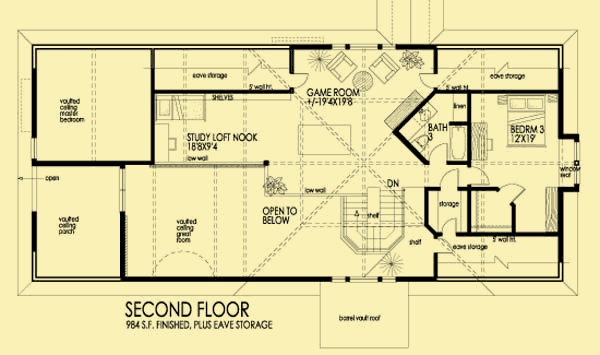bed: (507, 94, 547, 148), (155, 92, 208, 122)
door: (498, 180, 527, 202), (466, 165, 493, 185), (428, 142, 451, 164), (438, 167, 460, 189), (290, 72, 311, 91), (417, 70, 438, 88), (440, 216, 459, 235)
small_sofa: (368, 52, 401, 85), (325, 51, 358, 83)
stairs: (340, 191, 405, 256)
tub: (448, 126, 469, 160)
window: (331, 42, 398, 52), (330, 275, 399, 284), (117, 167, 127, 212), (573, 141, 582, 185), (29, 138, 40, 160)
